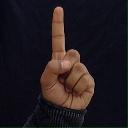hand: (39, 5, 95, 110)
